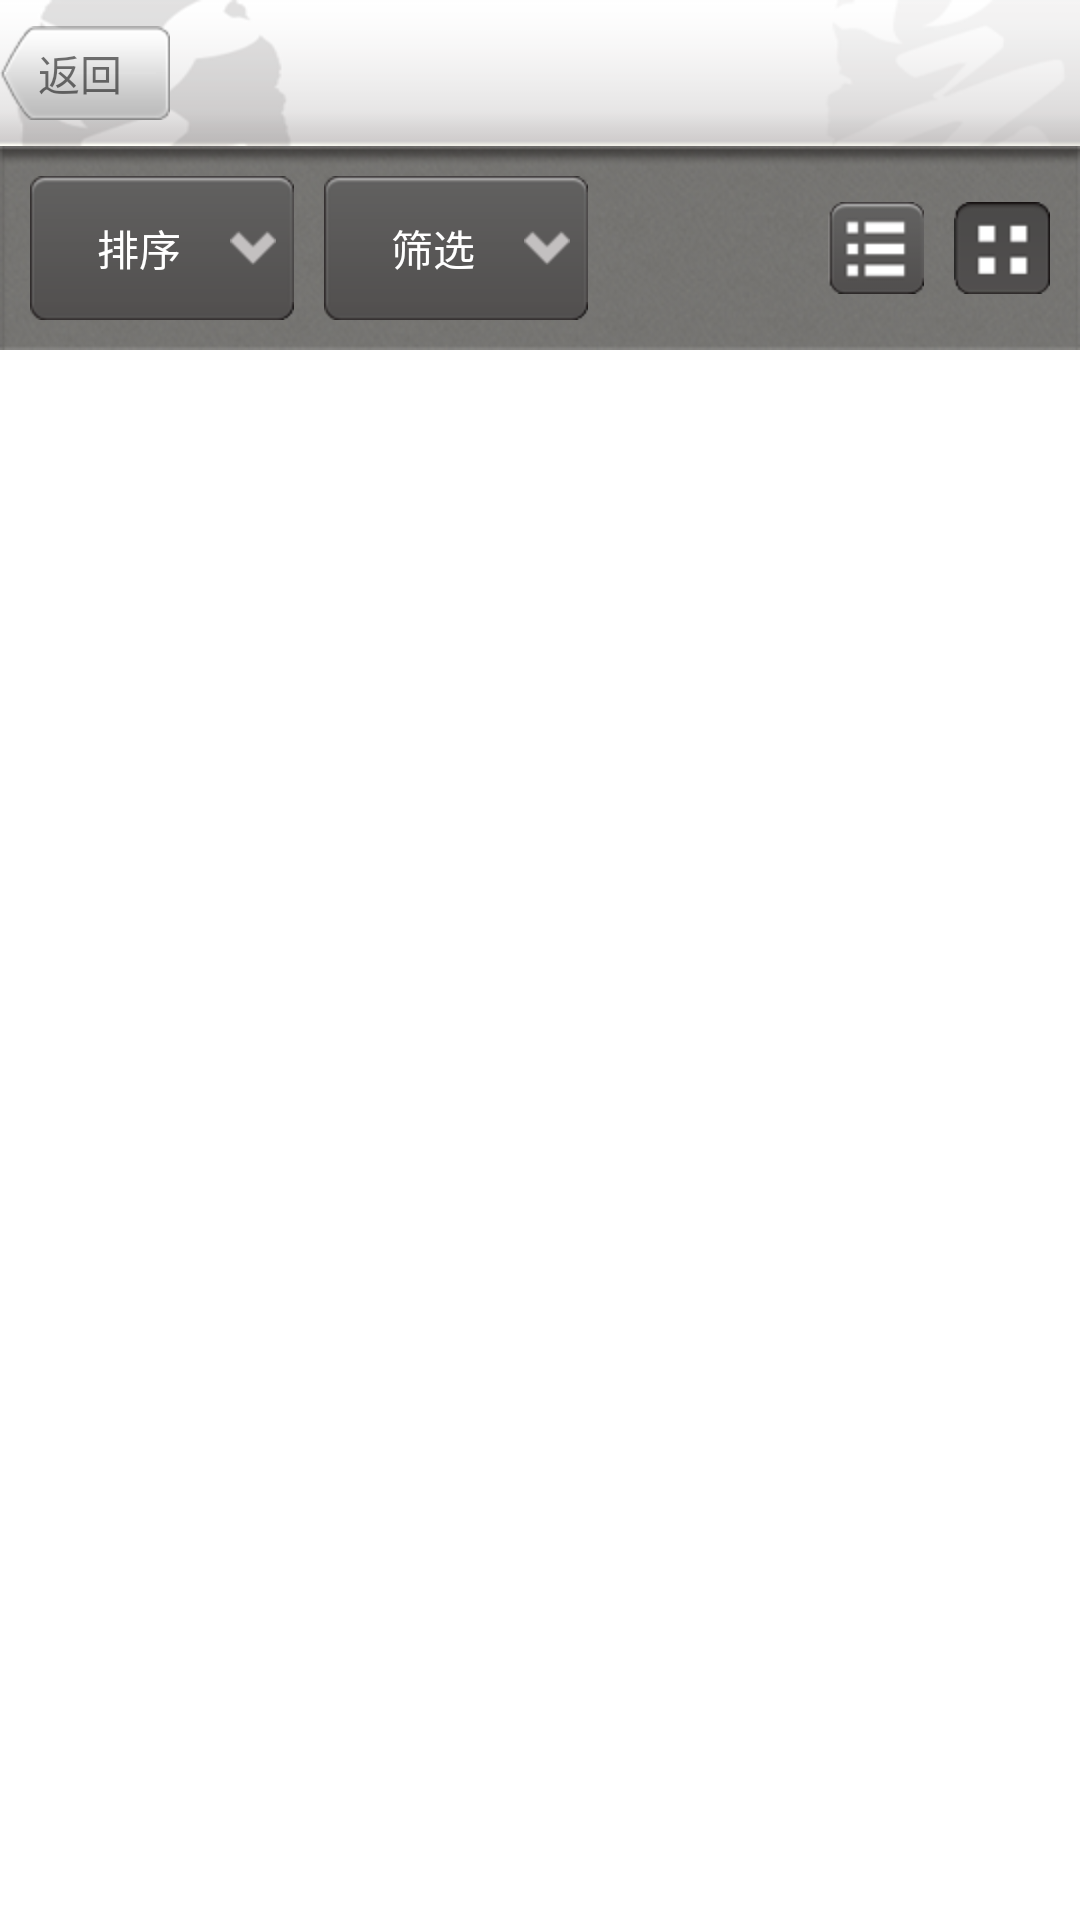

Screen size 1080 × 1920. Icon name, then its box in pixels as (left=x1, top=y1, right=x2, bottom=y2):
show as grid: (left=954, top=202, right=1050, bottom=294)
show as list: (left=830, top=202, right=924, bottom=294)
